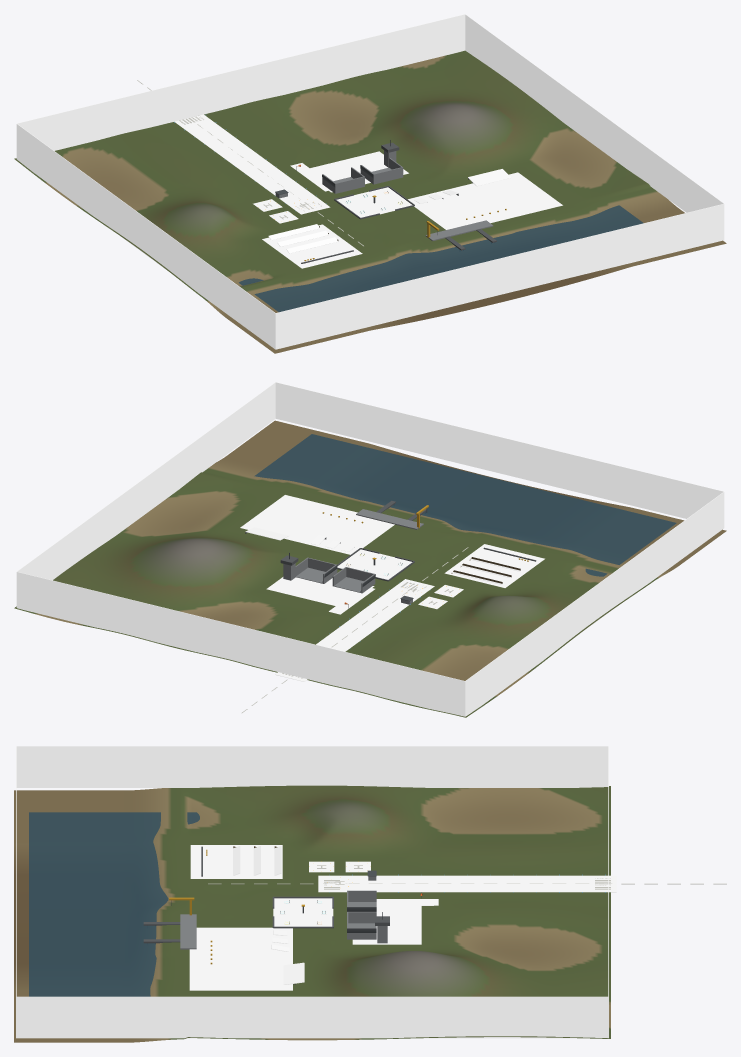
The model's file is prototype_shell.glb.
3 views of the same model, one above another, from view 1: azimuth 30°, elevation 25°; view 2: azimuth 150°, elevation 25°; view 3: azimuth 270°, elevation 25° (orthographic). The views are drawn at different scales.
Visible parts, largest first — view 1: Terrain, COL_OutOfBounds_1, COL_OutOfBounds_0, COL_OutOfBounds_3, COL_OutOfBounds_2, Water_Surface, COL_DrivingPad_29, COL_Runway_0, COL_WeaponsPad_40, Section_Airfield, COL_HubPad_15, COL_Apron_2 (+1 smaller); view 2: Terrain, Water_Surface, COL_OutOfBounds_0, COL_OutOfBounds_1, COL_OutOfBounds_3, COL_OutOfBounds_2, COL_DrivingPad_29, COL_Runway_0, COL_WeaponsPad_40, Section_Airfield, COL_Apron_2, COL_HubPad_15 (+1 smaller); view 3: Terrain, COL_OutOfBounds_2, COL_OutOfBounds_3, Water_Surface, COL_DrivingPad_29, COL_Runway_0, COL_WeaponsPad_40, Section_Airfield, COL_Apron_2, COL_HubPad_15, Section_Harbour, Section_Hub.
Part boxes in pixels (x1=…): Terrain: x1=14, y1=50, x2=726, y2=353; COL_OutOfBounds_1: x1=275, y1=204, x2=724, y2=349; COL_OutOfBounds_0: x1=17, y1=14, x2=465, y2=150; COL_OutOfBounds_3: x1=16, y1=124, x2=275, y2=349; COL_OutOfBounds_2: x1=465, y1=14, x2=723, y2=212; Water_Surface: x1=239, y1=205, x2=643, y2=312; COL_DrivingPad_29: x1=405, y1=172, x2=562, y2=229; COL_Runway_0: x1=174, y1=114, x2=330, y2=214; COL_WeaponsPad_40: x1=262, y1=224, x2=362, y2=268; Section_Airfield: x1=137, y1=80, x2=403, y2=246; COL_HubPad_15: x1=336, y1=187, x2=411, y2=217; COL_Apron_2: x1=308, y1=151, x2=408, y2=192; Terrain: x1=14, y1=420, x2=726, y2=717; Water_Surface: x1=254, y1=434, x2=676, y2=576; COL_OutOfBounds_0: x1=16, y1=572, x2=465, y2=716; COL_OutOfBounds_1: x1=275, y1=382, x2=723, y2=518; COL_OutOfBounds_3: x1=465, y1=492, x2=724, y2=716; COL_OutOfBounds_2: x1=17, y1=382, x2=275, y2=580; COL_DrivingPad_29: x1=240, y1=495, x2=394, y2=554; COL_Runway_0: x1=275, y1=579, x2=434, y2=681; COL_WeaponsPad_40: x1=444, y1=544, x2=544, y2=587; Section_Airfield: x1=241, y1=547, x2=468, y2=713; COL_Apron_2: x1=266, y1=577, x2=374, y2=607; COL_HubPad_15: x1=337, y1=549, x2=412, y2=579; Terrain: x1=14, y1=785, x2=610, y2=1042; COL_OutOfBounds_2: x1=16, y1=996, x2=608, y2=1038; COL_OutOfBounds_3: x1=16, y1=746, x2=608, y2=787; Water_Surface: x1=29, y1=812, x2=199, y2=996; COL_DrivingPad_29: x1=189, y1=927, x2=292, y2=990; COL_Runway_0: x1=318, y1=875, x2=616, y2=892; COL_WeaponsPad_40: x1=190, y1=845, x2=282, y2=878; Section_Airfield: x1=208, y1=874, x2=726, y2=939; COL_Apron_2: x1=352, y1=901, x2=421, y2=944; COL_HubPad_15: x1=273, y1=898, x2=333, y2=926; Section_Harbour: x1=143, y1=897, x2=196, y2=949; Section_Hub: x1=272, y1=896, x2=333, y2=928.
Size of what is drawn, in the model's own units: 520 by 47.5 by 621.
